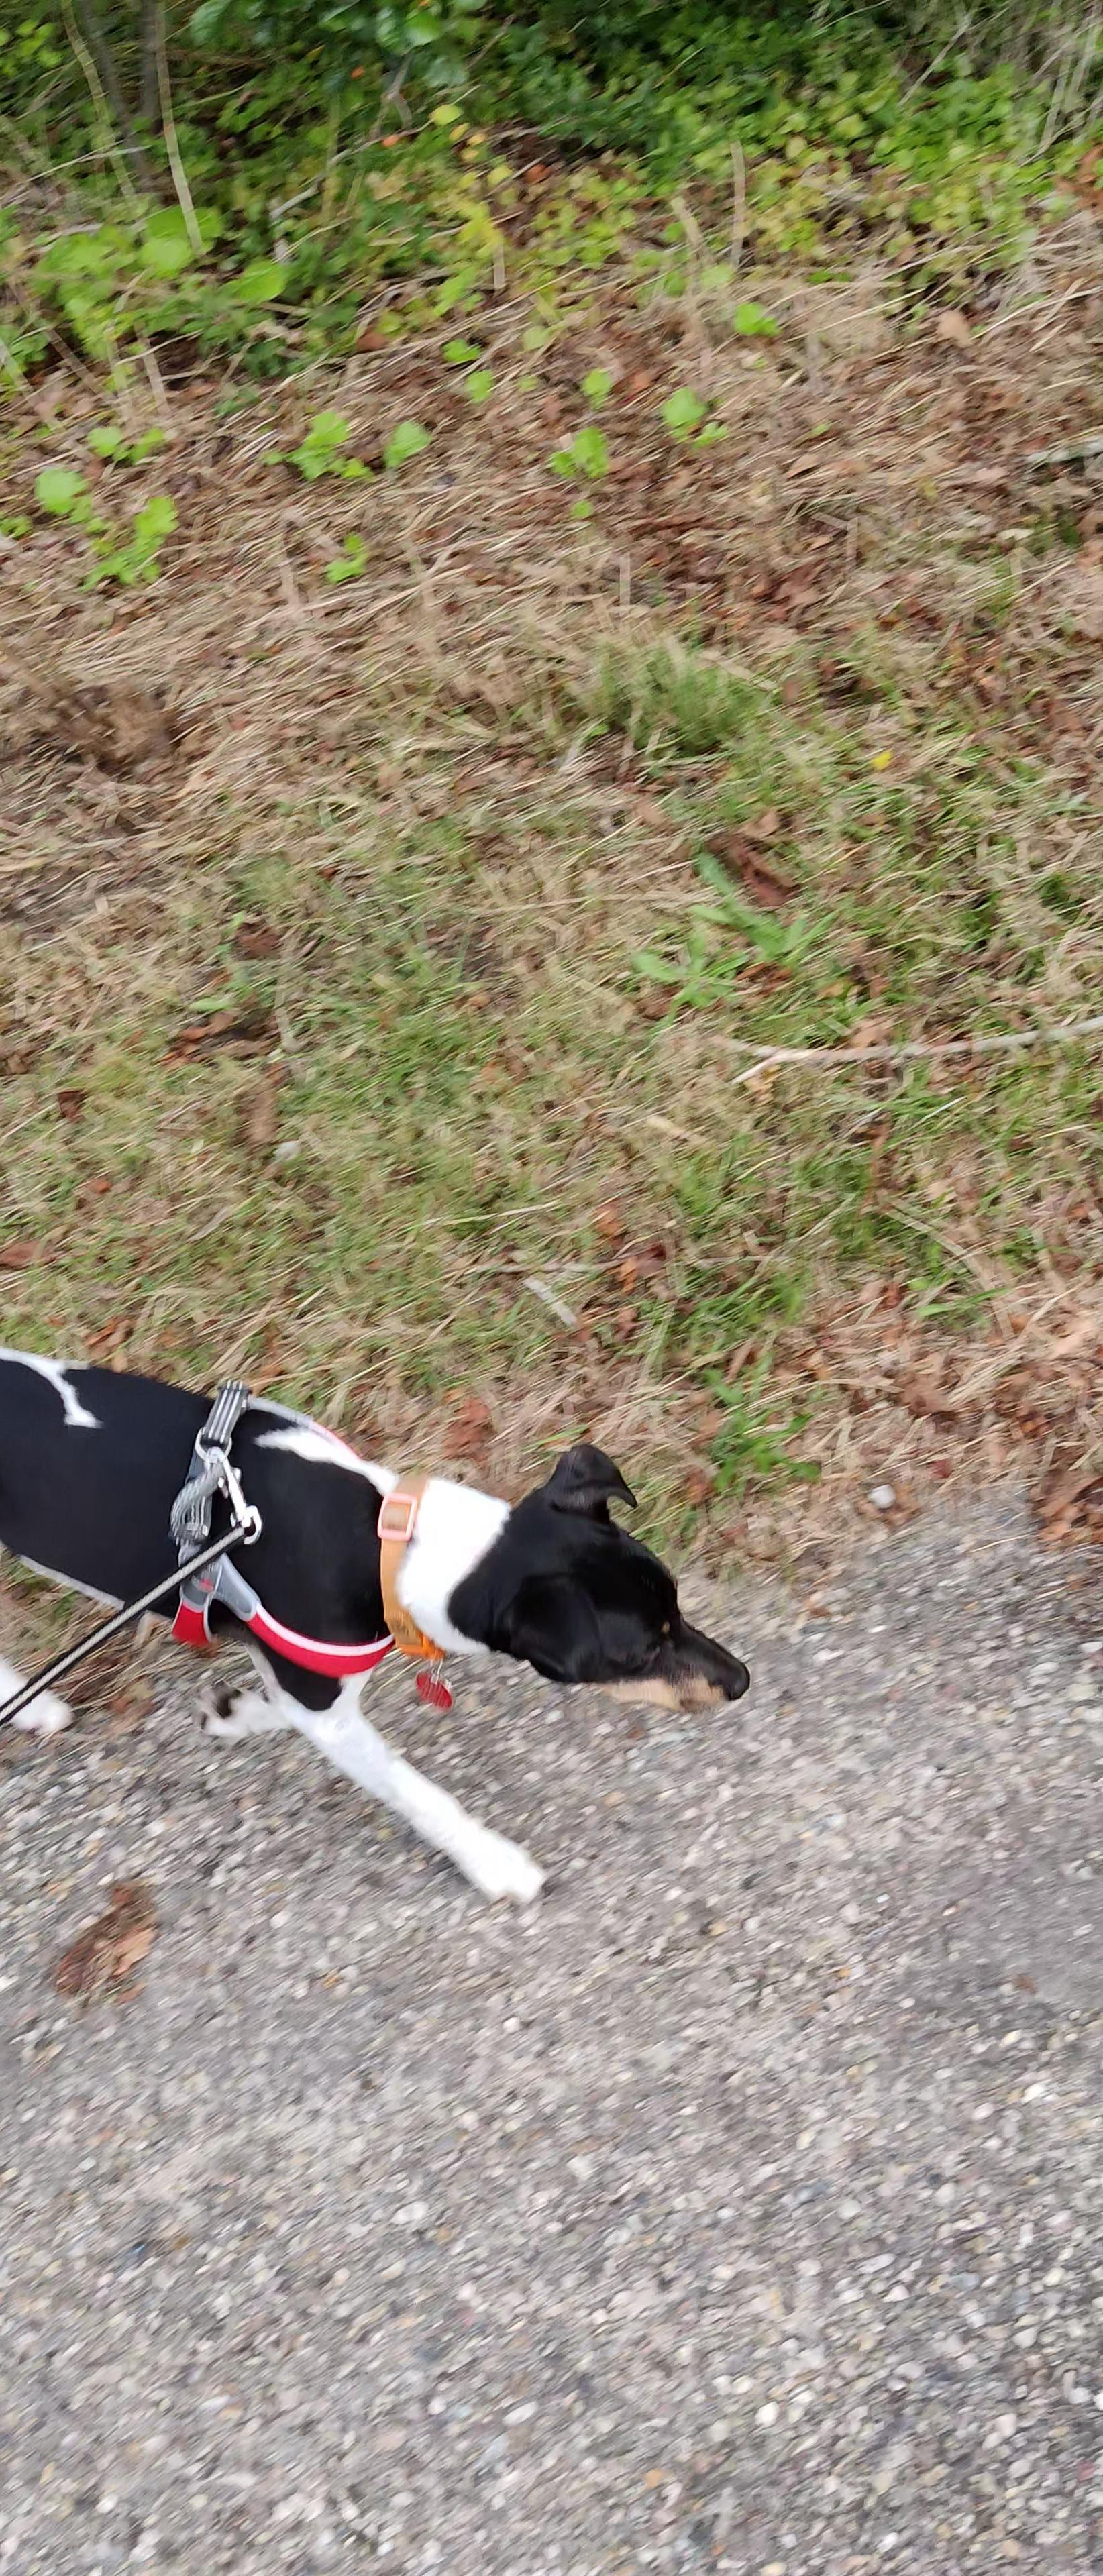Dog: (0, 1332, 761, 1906)
